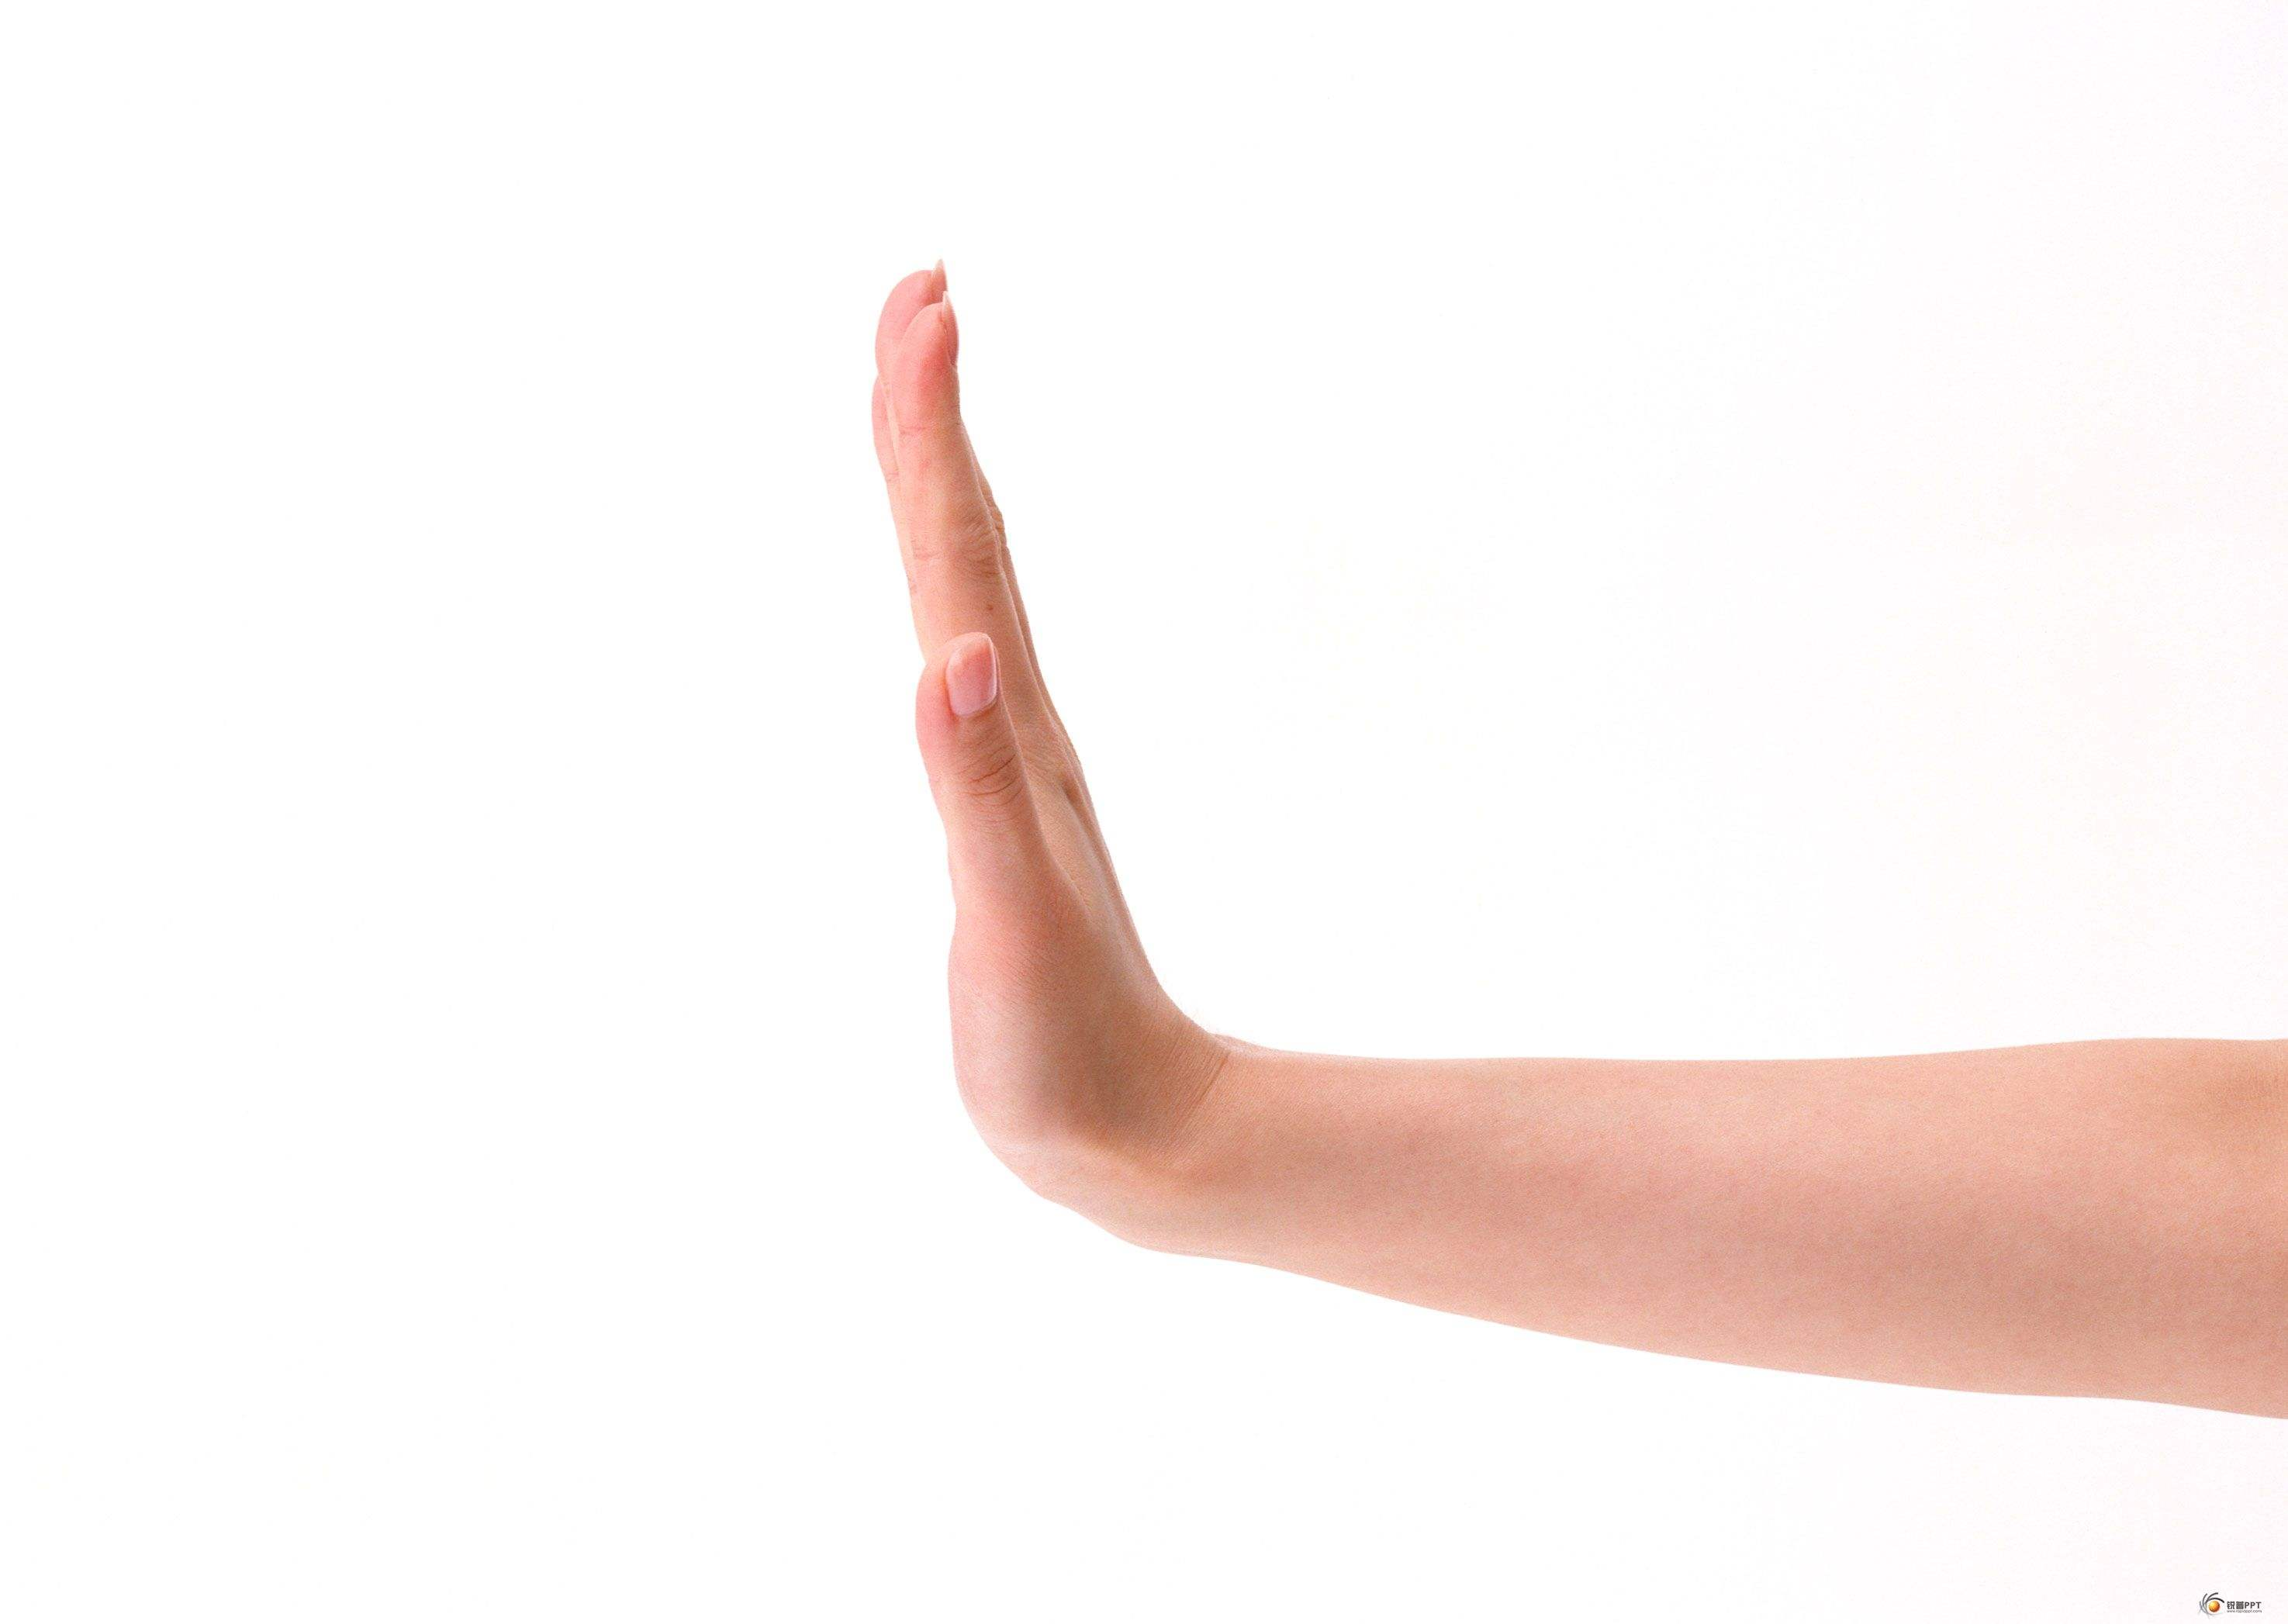no-phone: (847, 243, 1211, 1241)
